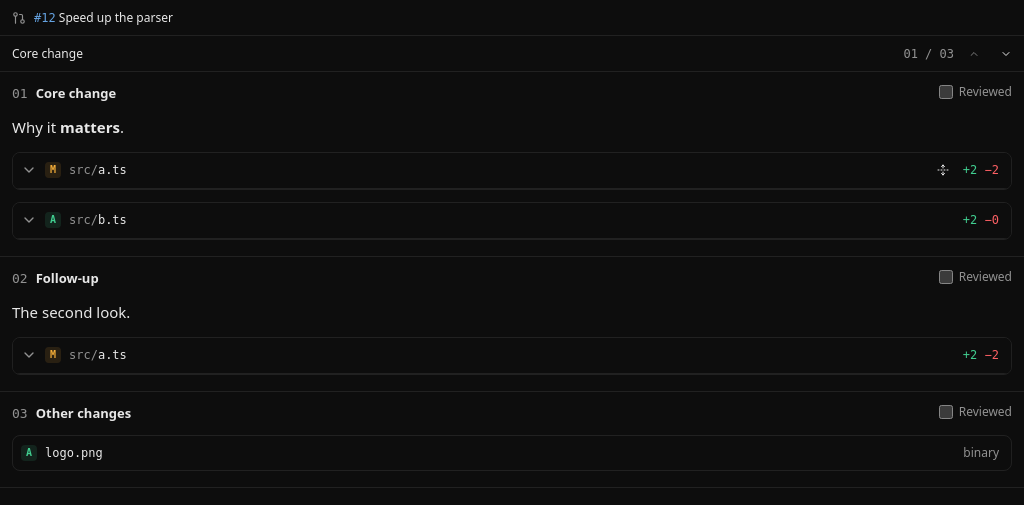
Test: GuideView › starts file cards expanded within the limits; a card collapses from its header
This screenshot has width=1024, height=505.
Expected: the heading "01Core change" is shown, [12,84,116,102]
Click the button "M src/ a.ts" below "Why it" at (29, 170), box [21,153,923,188]
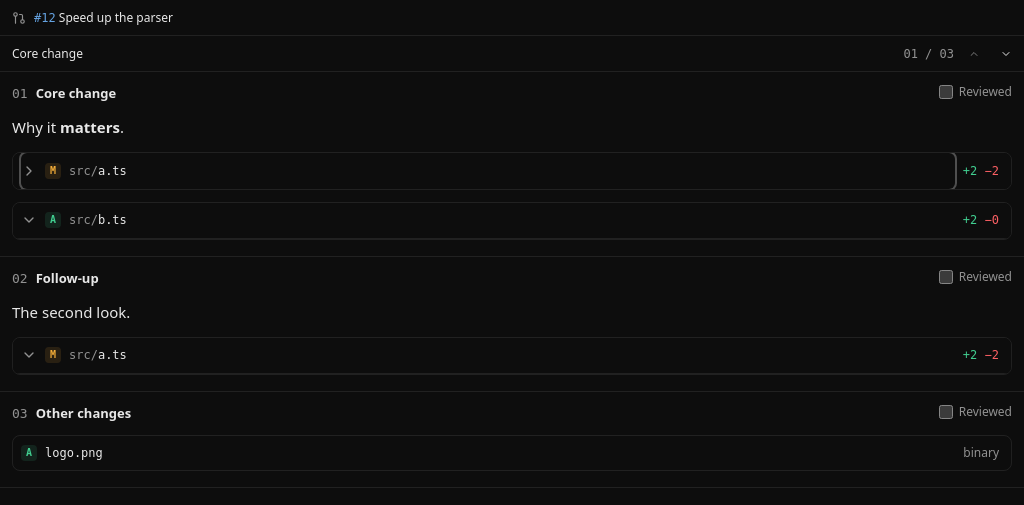
Expected: the button "M src/ a.ts" below "Why it" is collapsed, [21,153,955,189]
